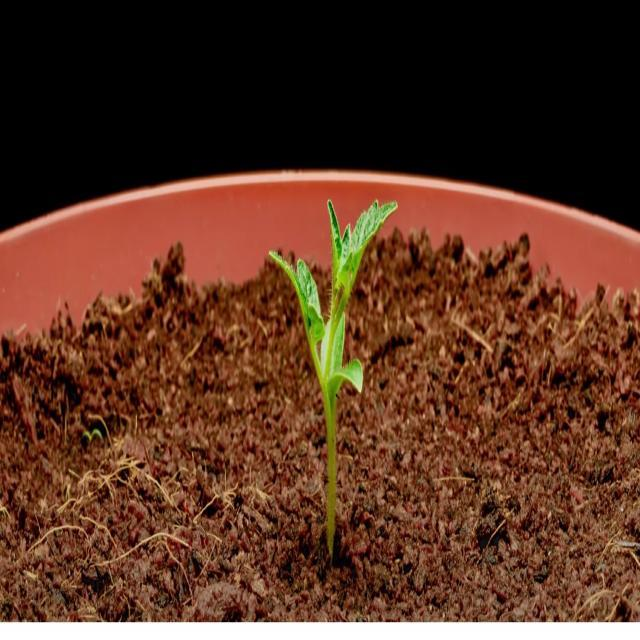tomato: (268, 204, 395, 547)
